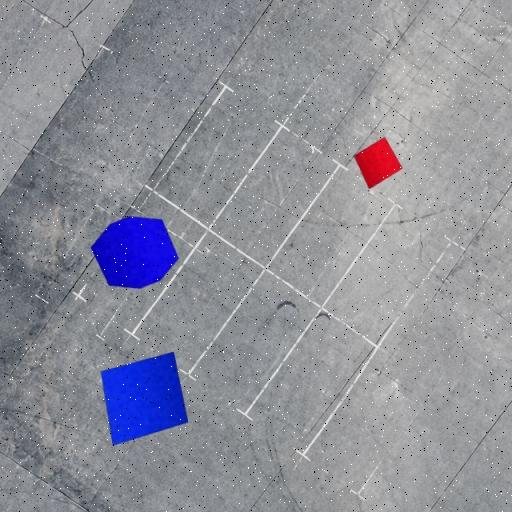BLUE_SQUARE: (100, 351, 189, 446)
RED_SQUARE: (353, 137, 403, 190)
